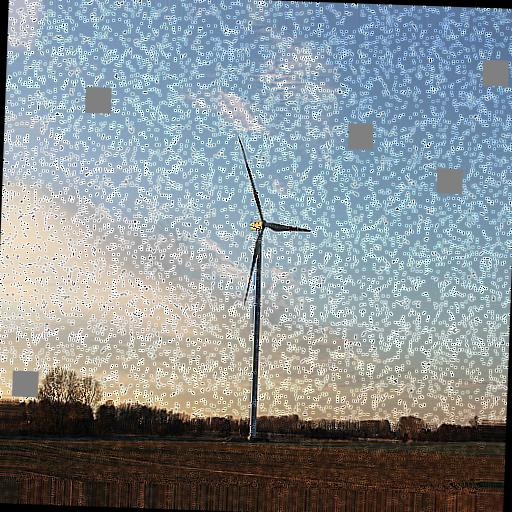wind turbine: (236, 137, 314, 440)
